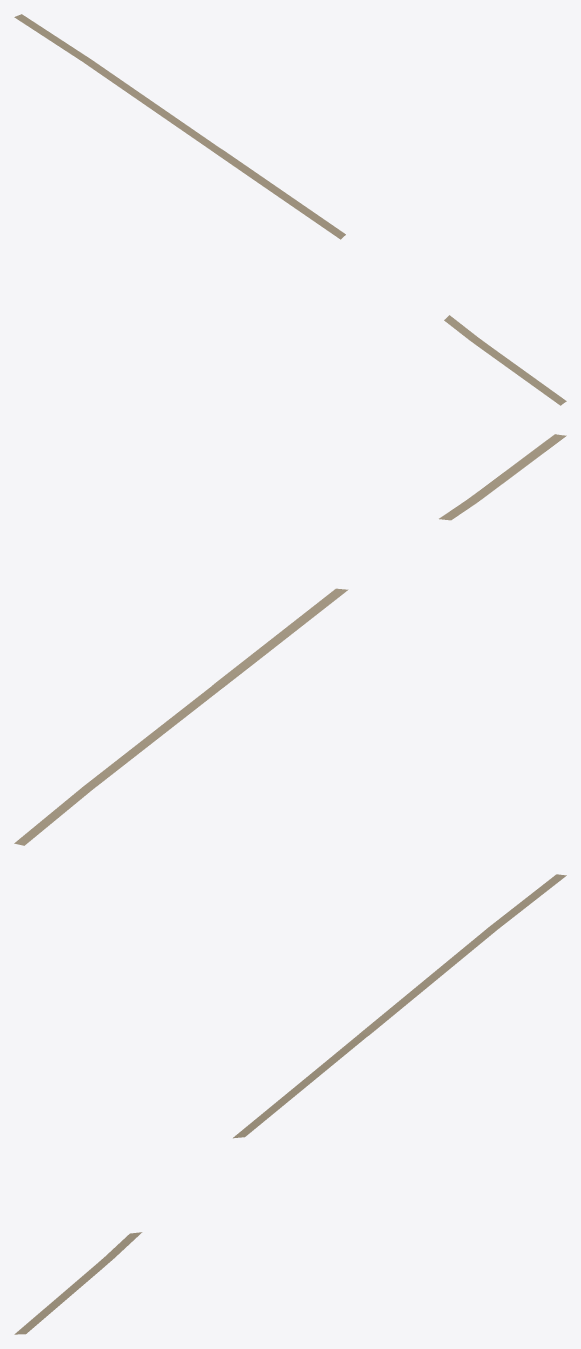
Rendered from farm_19_10_track.glb.
The picture shows the model from 3 angles, top to bottom: view 1: azimuth 30°, elevation 25°; view 2: azimuth 150°, elevation 25°; view 3: azimuth 330°, elevation 25°; orthographic projection. The views are drawn at different scales.
Visible parts, largest first — view 1: geometry_0; view 2: geometry_0; view 3: geometry_0.
Part boxes in pixels (x1,y1,x2,y2): geometry_0: (14,14,566,405); geometry_0: (14,434,566,845); geometry_0: (14,874,566,1334).
Size of the model in its own units: 16.43 by 8.77 by 340.
